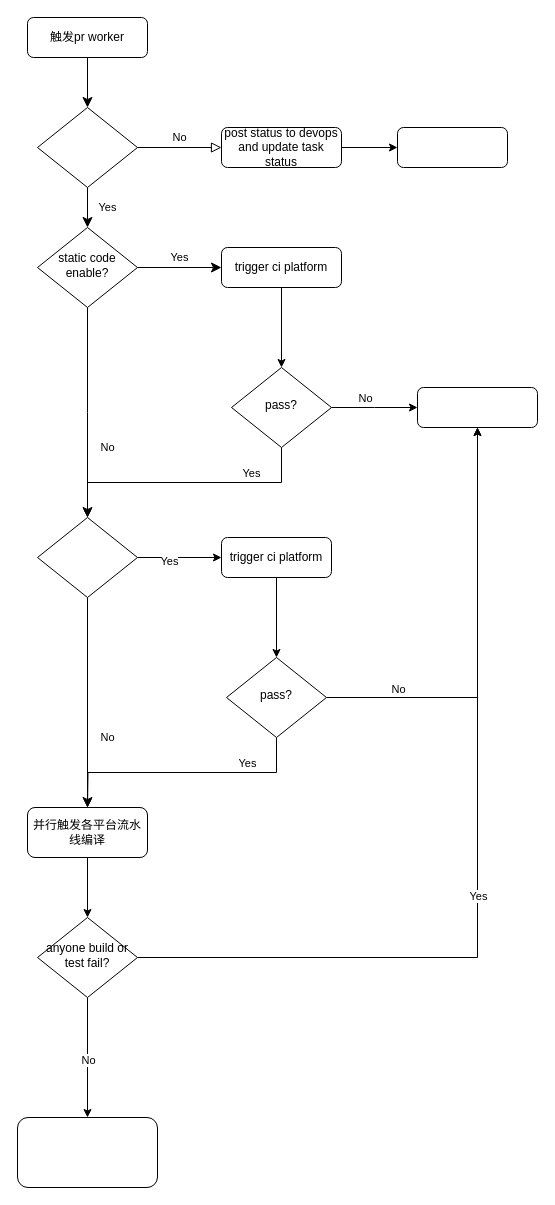
Some shapes in this 555 by 1205 pixel diagram are drawn without their labels. Here are the shapes that lost their labels. From the top down, the centre of each, then its label:
point (87, 147): pr是否开启
point (452, 147): update branch policy
point (477, 407): post fail status to devops and update mutitask fail status
point (87, 557): unit test enable?
point (87, 1152): post success status to devops and update mutitask success status
